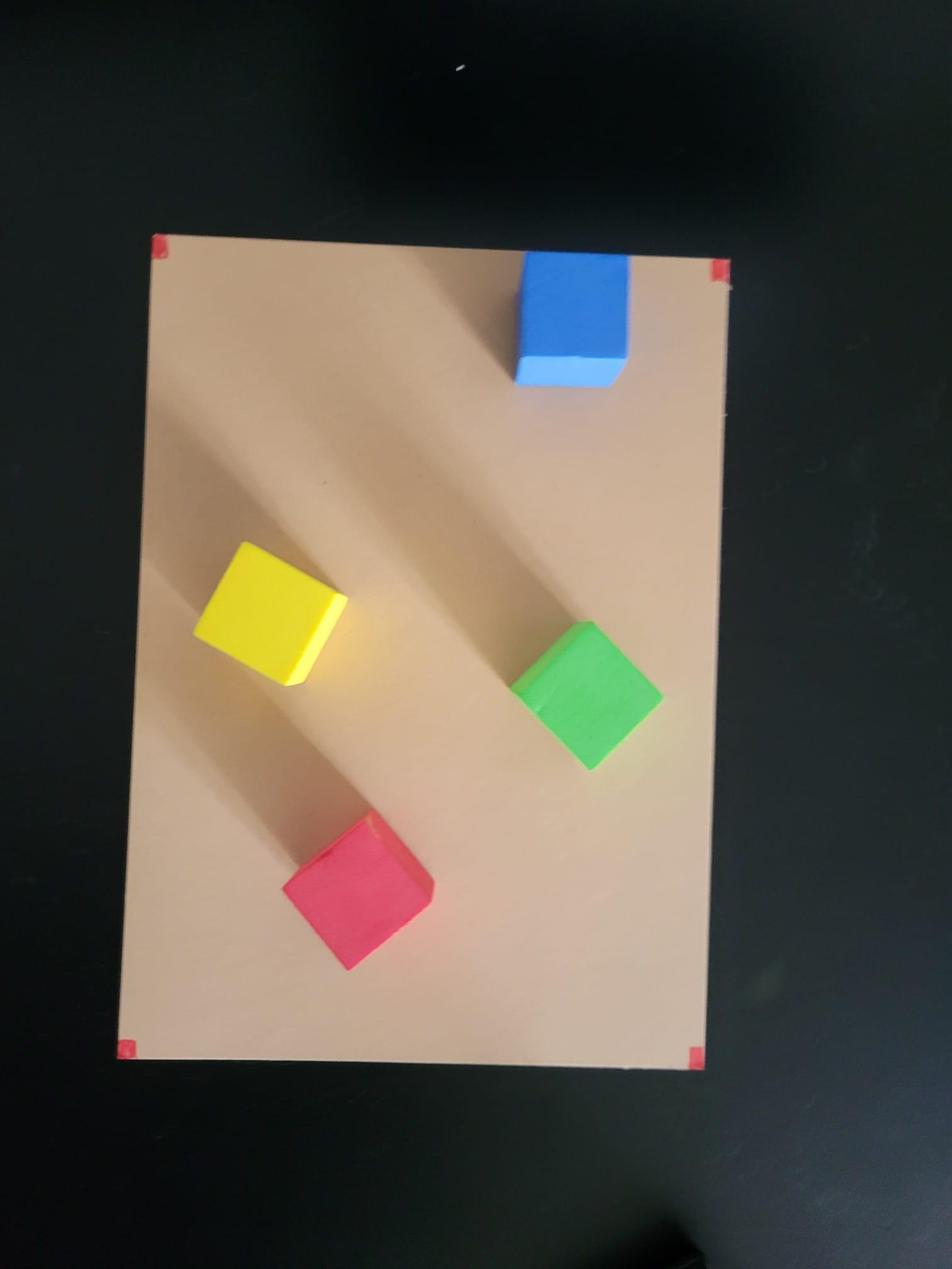cube: (285, 810, 436, 971), (508, 622, 666, 771), (195, 543, 349, 692), (518, 255, 630, 389)
